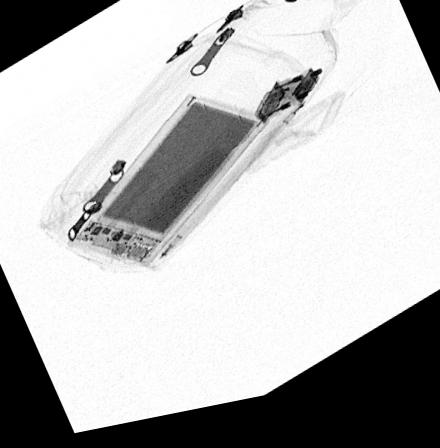Powerbank: (69, 102, 265, 274)
